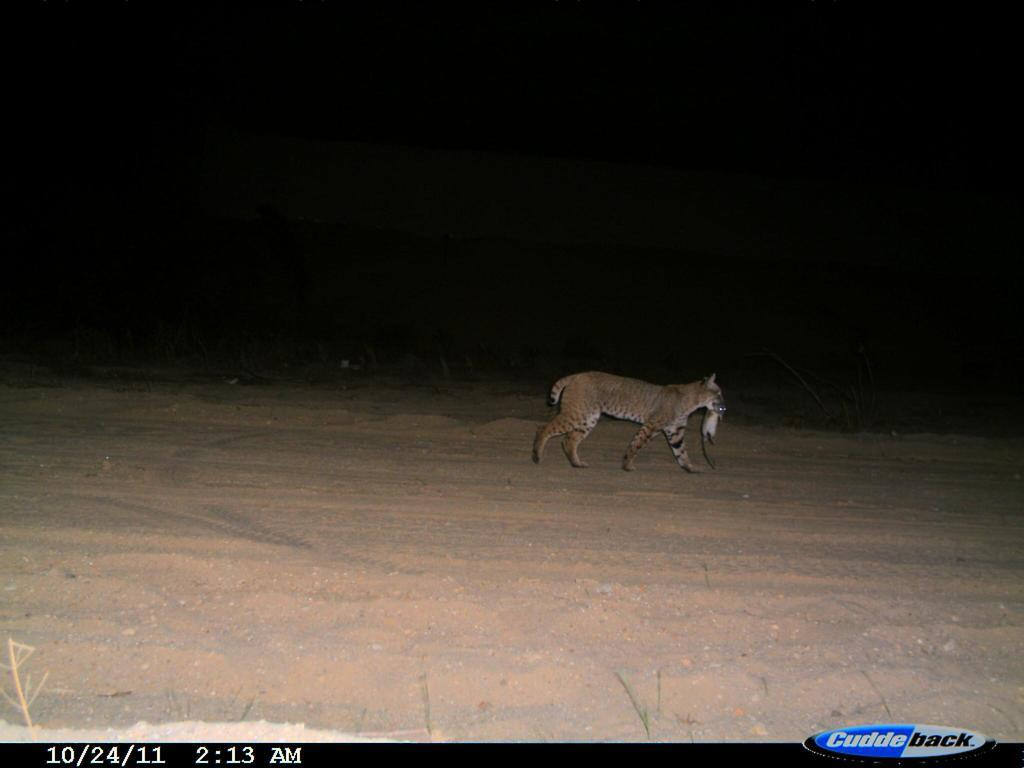bobcat: (528, 358, 733, 488)
